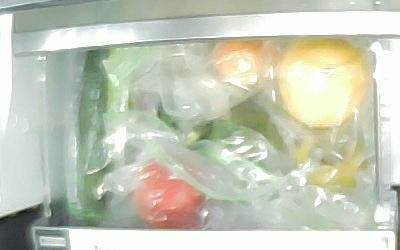apple_vinyl: (134, 162, 205, 230)
cucumber_vinyl: (78, 48, 109, 213), (78, 126, 108, 227)
grapefruit_vinyl: (278, 39, 366, 129)
peach_vinyl: (212, 39, 278, 84)
persimmon_vinyl: (296, 136, 367, 191)
